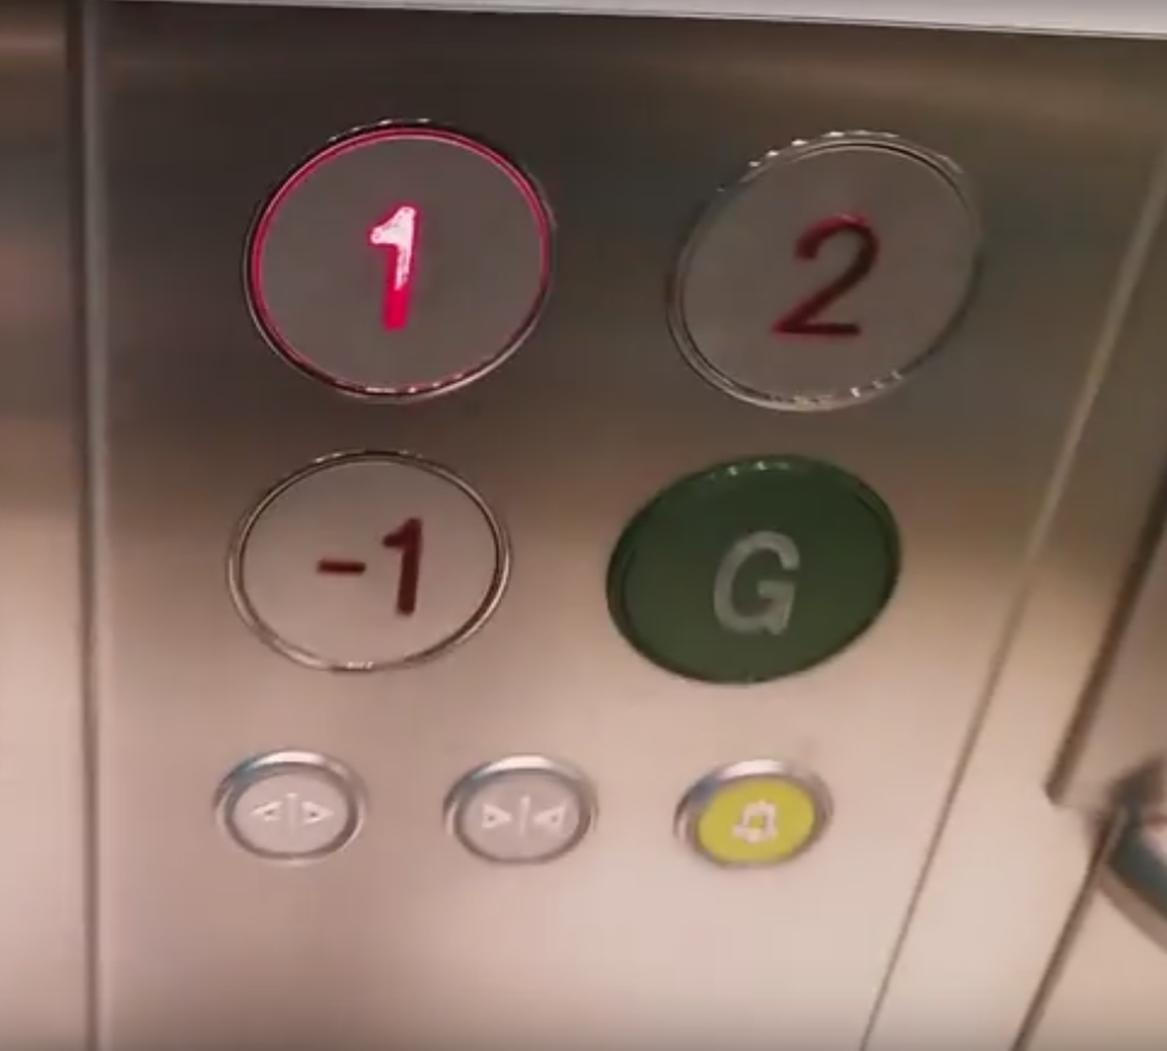-1: (227, 443, 514, 684)
1: (241, 120, 557, 406)
2: (671, 121, 987, 422)
G: (599, 446, 906, 690)
alarm: (670, 755, 838, 883)
close: (438, 749, 602, 875)
open: (209, 746, 374, 873)
